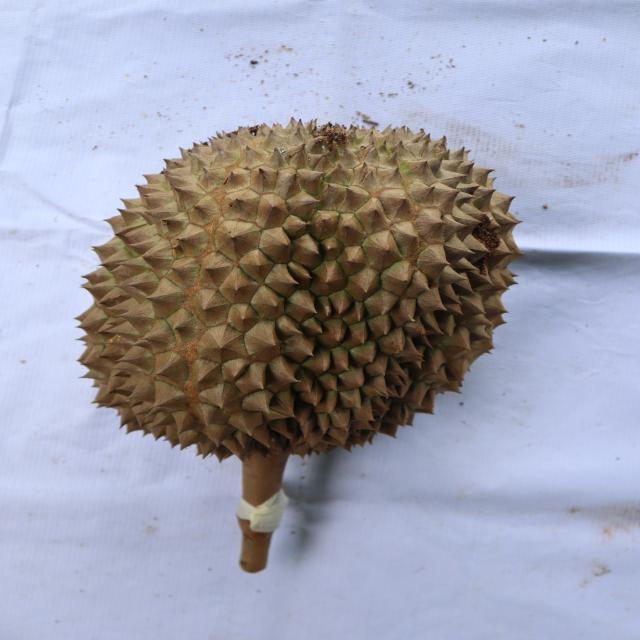mature: (70, 119, 520, 455)
